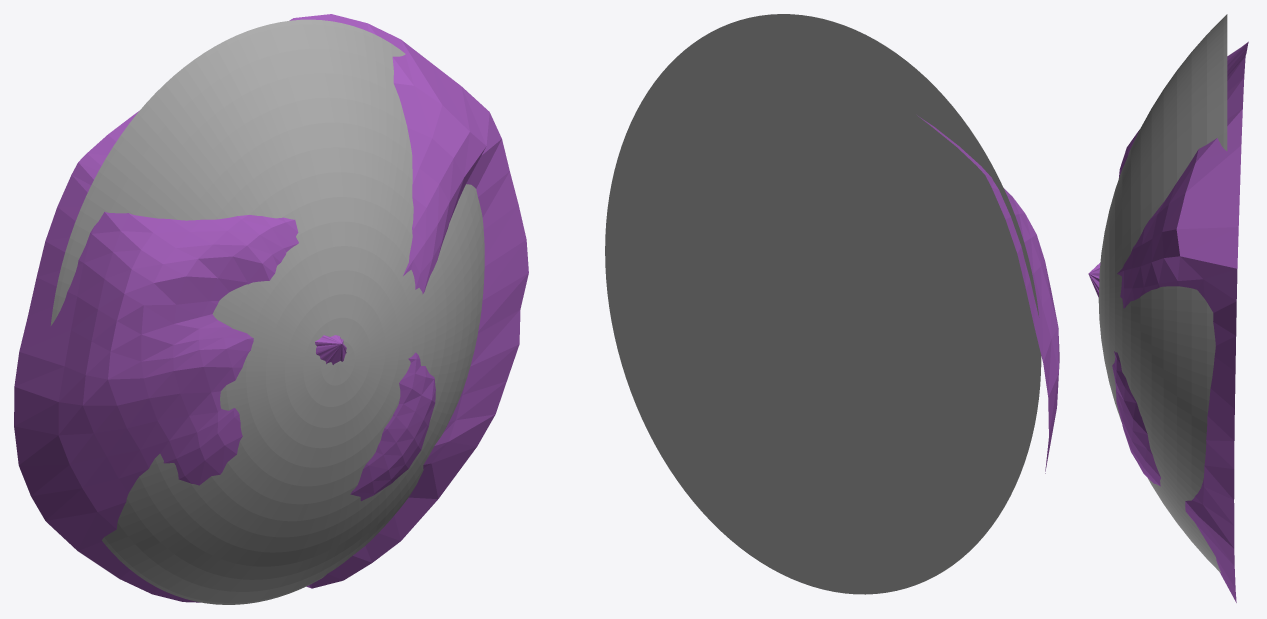
File: G04_A3_ALIGNED_GT.glb
3 views of the same model, side by side, from view 1: azimuth 30°, elevation 25°; view 2: azimuth 150°, elevation 25°; view 3: azimuth 270°, elevation 25° (orthographic). The views are drawn at different scales.
Parts seen in each view (by area): view 1: Independent_GT, A3; view 2: Independent_GT, A3; view 3: Independent_GT, A3.
Part boxes in pixels (x1,y1,x2,y2): Independent_GT: (50, 19, 484, 604); A3: (14, 14, 528, 602); Independent_GT: (605, 14, 1041, 594); A3: (917, 115, 1059, 473); Independent_GT: (1098, 14, 1227, 572); A3: (1088, 41, 1248, 602).
Bounding box in the file's own units: 0.00597 × 0.00656 × 0.00183.
